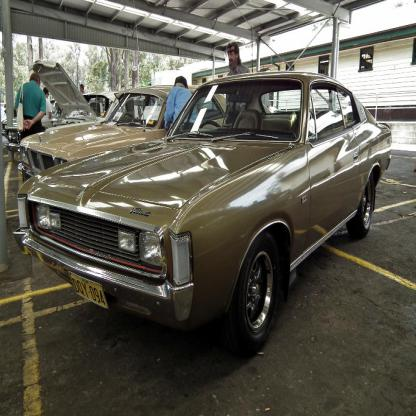Car: (0, 58, 391, 354)
